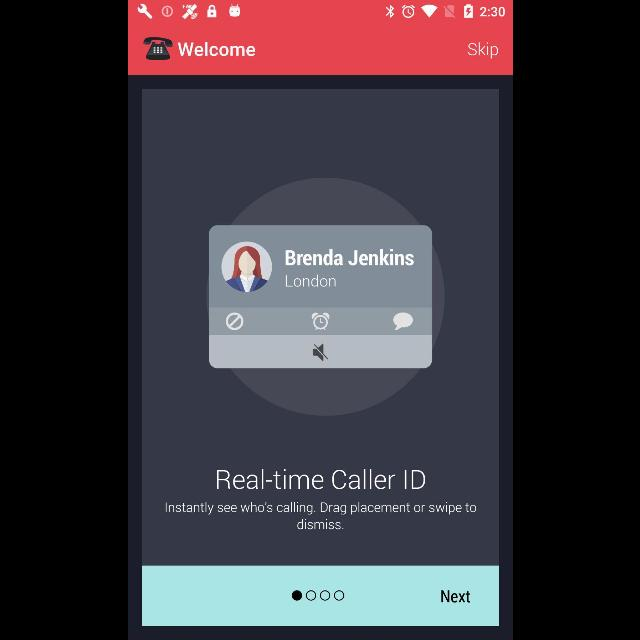image: (208, 178, 444, 416), (142, 38, 172, 61)
pageindicator: (290, 590, 344, 602)
text: (164, 502, 476, 528), (216, 468, 424, 489), (177, 43, 255, 57), (467, 42, 497, 59), (440, 590, 470, 602)
toolbar: (128, 21, 512, 75)
uppertaskbar: (128, 1, 512, 21)
